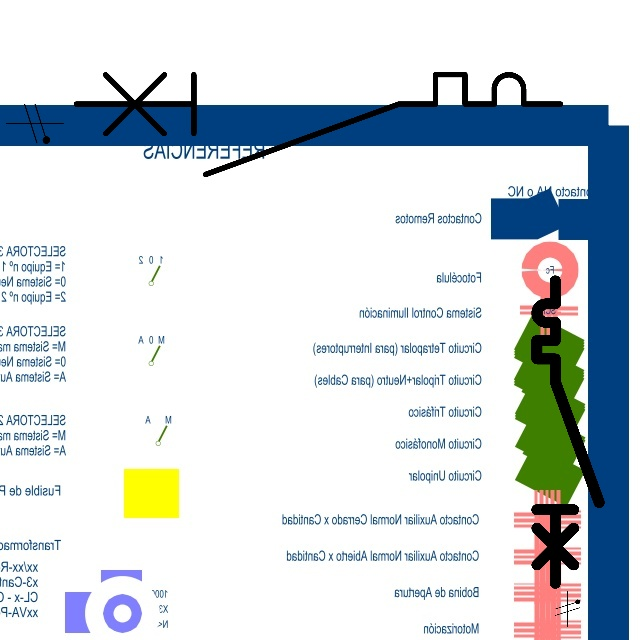interruptor_termomagnetico: (63, 62, 573, 186), (529, 273, 607, 591)
